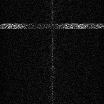wifi: (1, 23, 104, 29)
